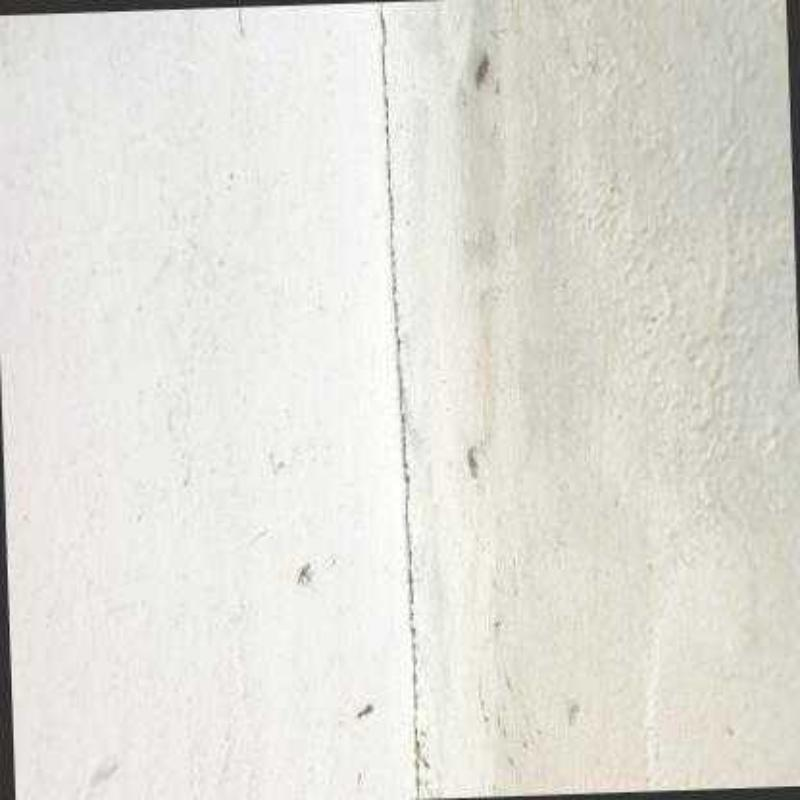crack: (380, 2, 420, 799)
